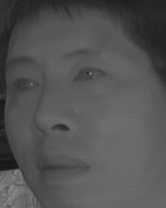eye: (71, 63, 107, 89), (7, 73, 41, 96)
mouth: (33, 148, 91, 183)
